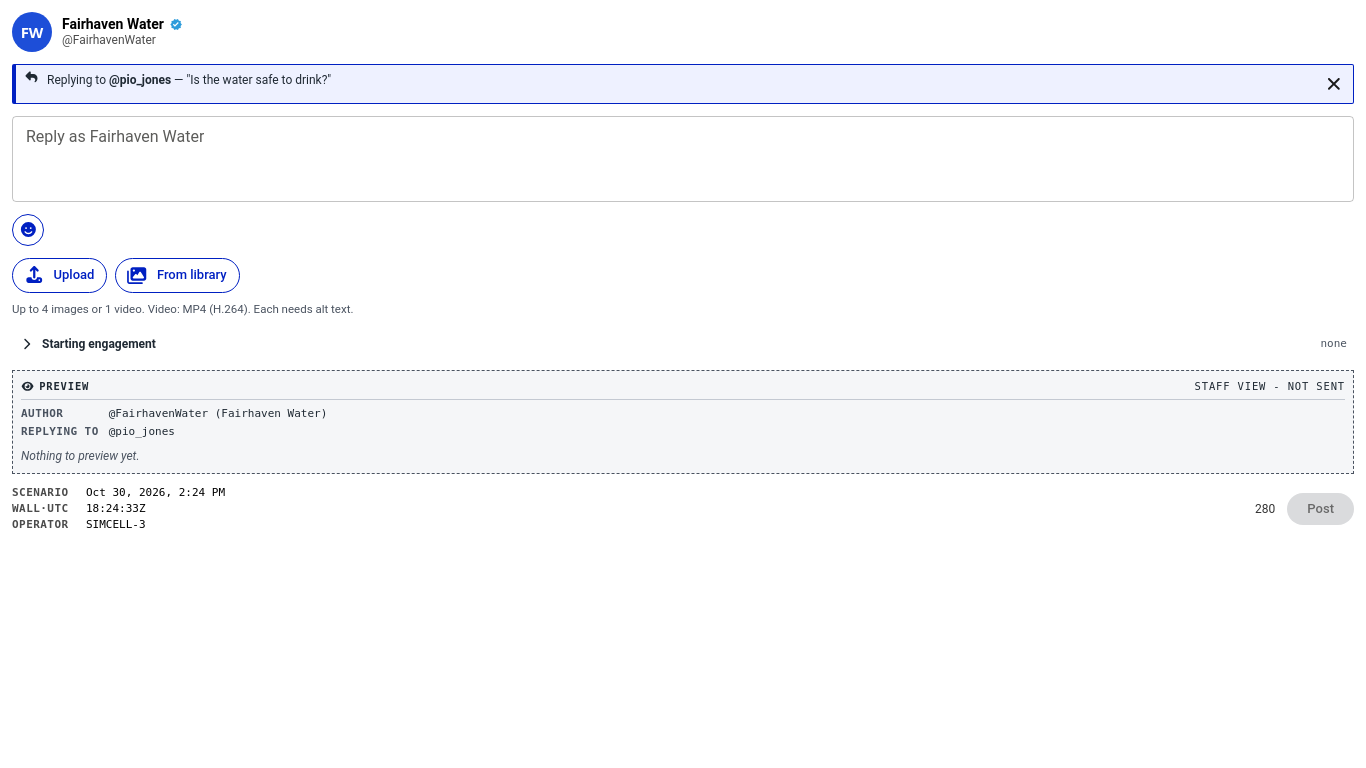
PersonaComposer (live) — media, reply and baseline on the body › a reply carries parentPostId; the target is dropped only AFTER success
Type "Yes - it is safe." into the text box labelled "Reply as Fairhaven Water" at (683, 159), box [26,124,1340,193]
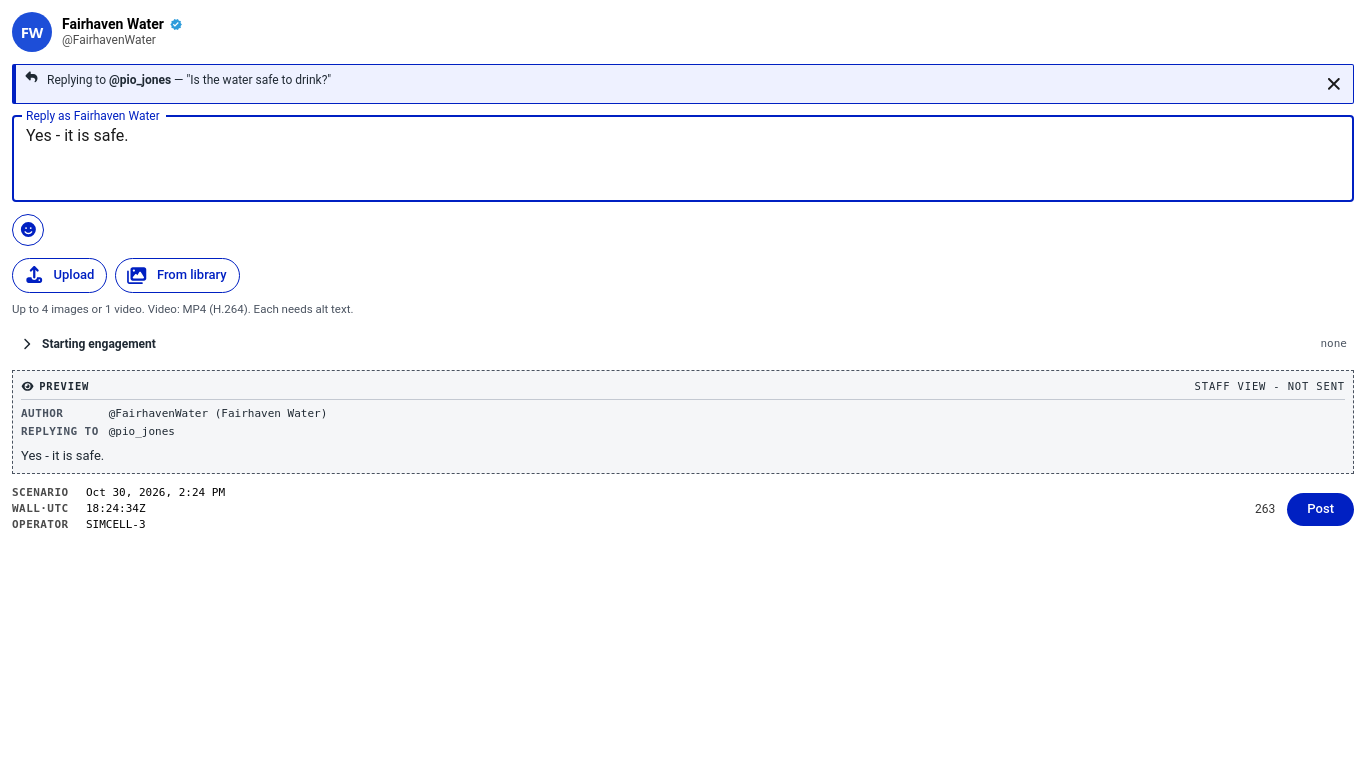
Click the button "Post" at (1321, 509), box [1287,493,1354,526]
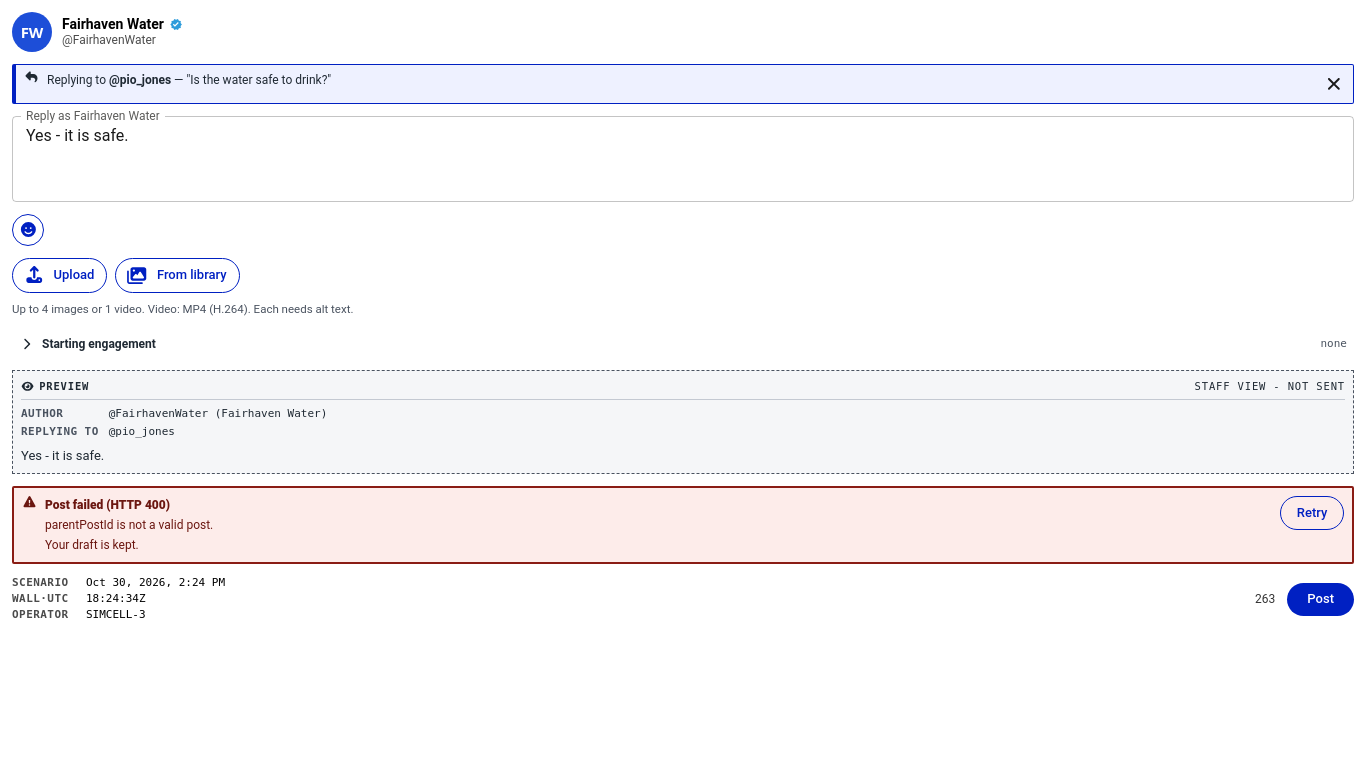
Expected: the message "Replying to @pio_jones — \"Is the water safe to drink?\"" is shown, [12,64,1354,104]
Now the message with test id "publish-error" is shown, box [12,486,1354,564]
Click the button "Retry" at (1312, 513), box [1280,496,1344,530]
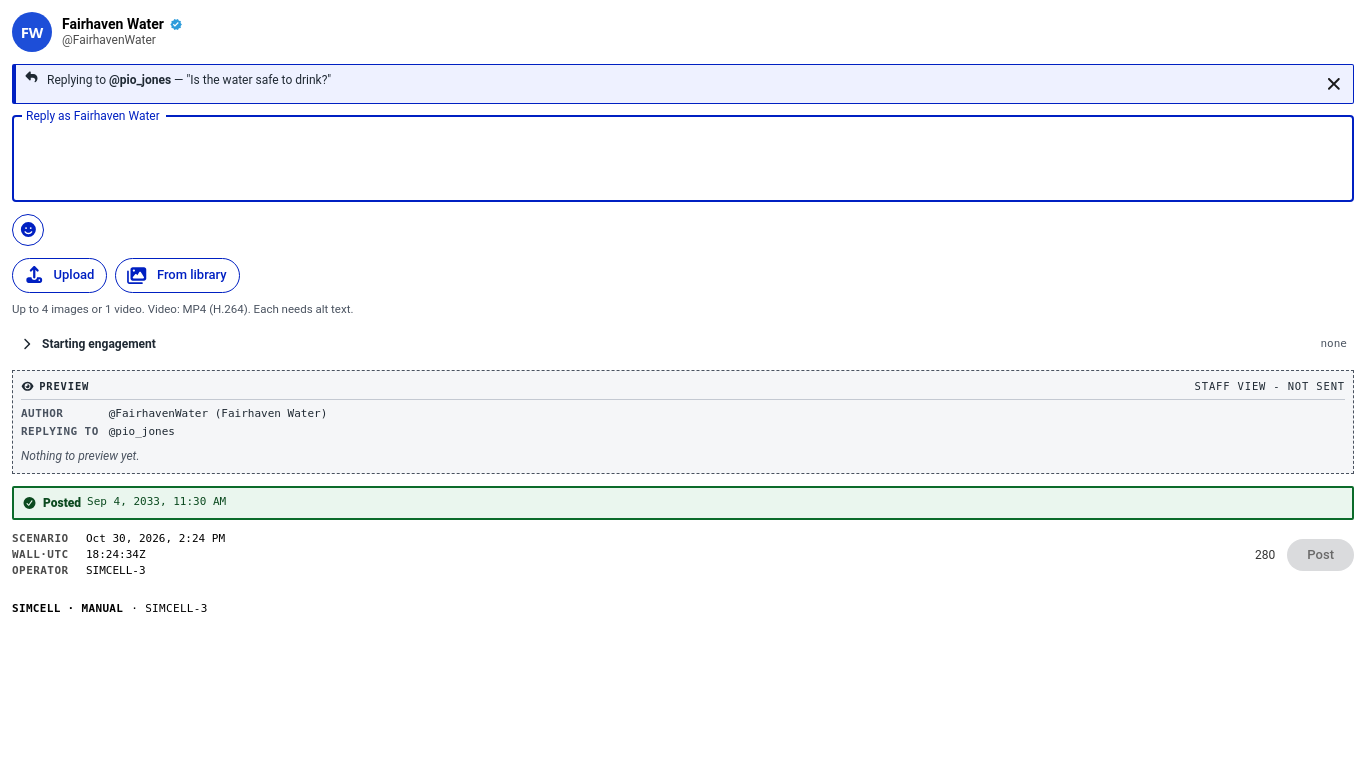
Now the message "Posted Sep 4, 2033, 11:30 AM" is shown, box [12,486,1354,520]
